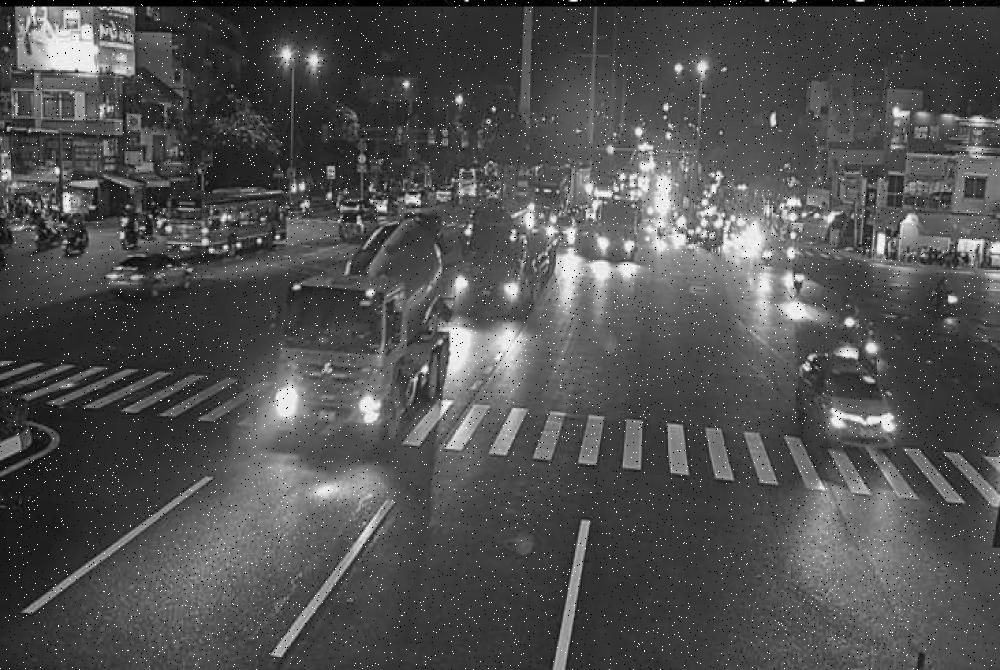car: (797, 352, 890, 445), (104, 254, 192, 301)
motorbike: (62, 222, 88, 256)
truck: (282, 216, 450, 446), (205, 186, 285, 257)
